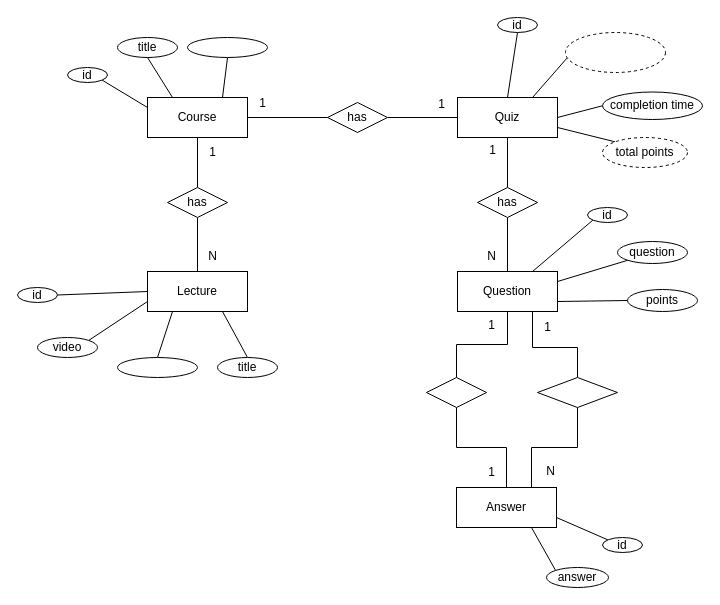
The diagram is 720 pixels wide and 605 high, and some of its shapes have lost their labels. The box of each missing label's shape, as (x1, y1, x2, y2) in pixels:
correct: (426, 376, 486, 408)
description: (116, 356, 198, 378)
number of questions: (564, 32, 666, 72)
provided: (536, 376, 618, 408)
semester: (186, 36, 268, 58)
